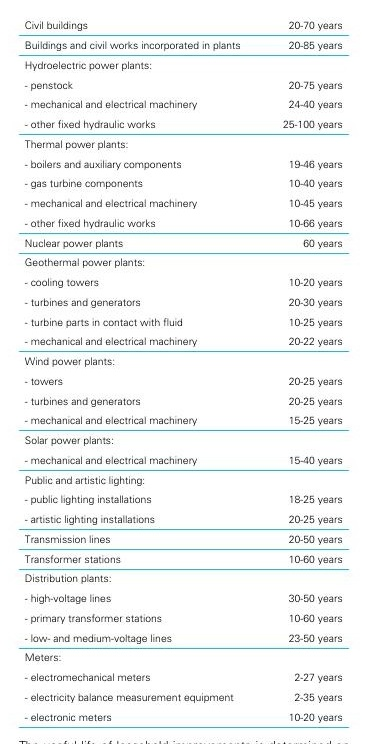table: (0, 0, 365, 744)
